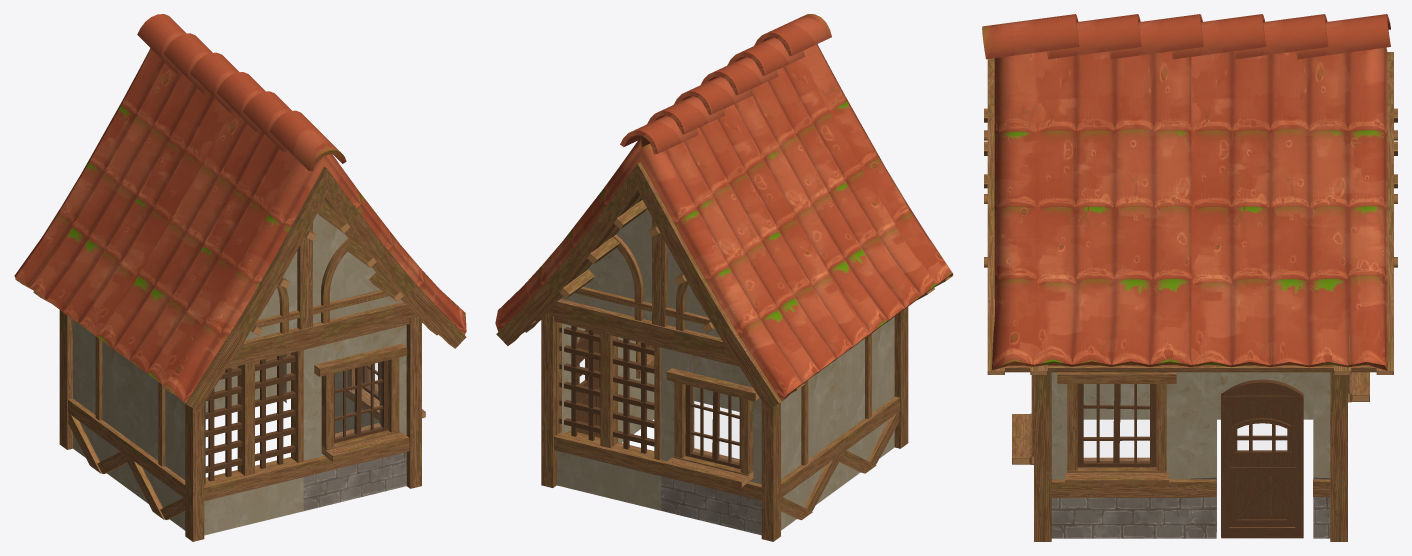
Rendered from megakit_house_small.glb.
3 views of the same model, side by side, from view 1: azimuth 30°, elevation 25°; view 2: azimuth 150°, elevation 25°; view 3: azimuth 270°, elevation 25° (orthographic). The views are drawn at different scales.
Parts seen in each view (by area): view 1: megakit_house_small; view 2: megakit_house_small; view 3: megakit_house_small.
Boxes of the visible parts, x1,y1,x2,y2 form: megakit_house_small: [14, 14, 466, 541]; megakit_house_small: [495, 14, 953, 541]; megakit_house_small: [982, 14, 1397, 541].
Size of the model in its own units: 5.51 by 6.86 by 5.62.
6 materials, 5 textured.
